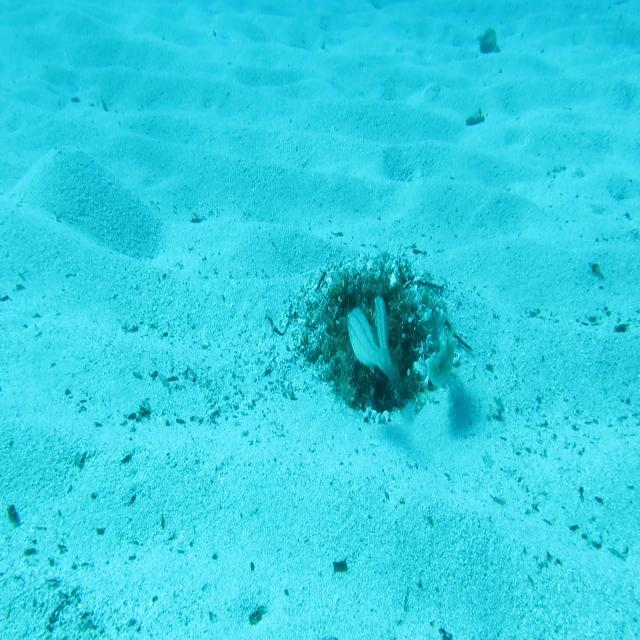BEND: (426, 302, 455, 394)
core_nest: (350, 285, 395, 320)
female: (346, 306, 400, 385), (373, 296, 394, 369)
nest: (288, 248, 460, 432)
vegetation: (477, 22, 503, 56), (465, 105, 486, 130), (329, 557, 350, 575), (614, 319, 630, 335)
